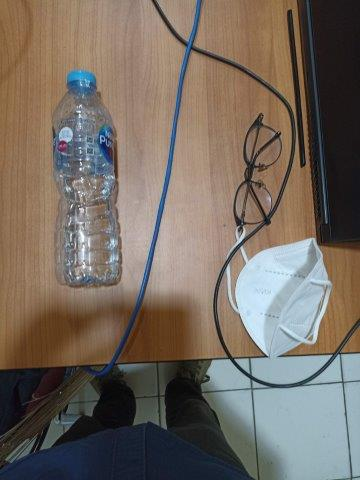botolplastik: (53, 70, 118, 285)
